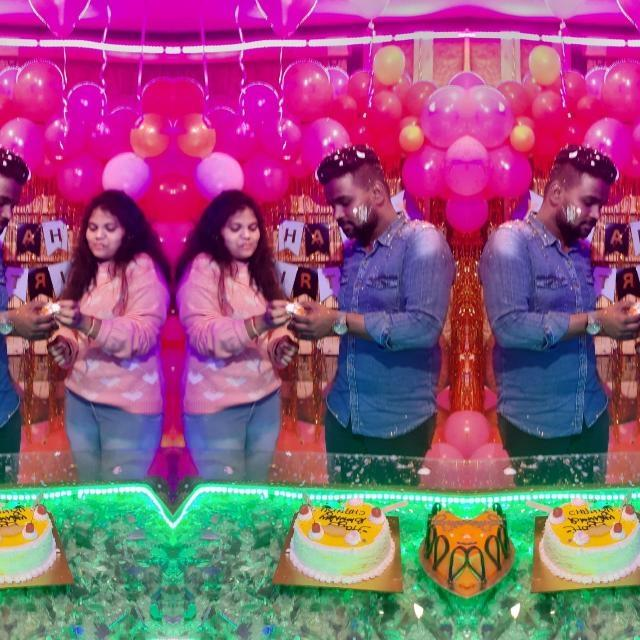person: (306, 142, 449, 466), (484, 142, 626, 466), (182, 190, 296, 474), (48, 190, 162, 474), (0, 141, 37, 466), (637, 189, 640, 474)
